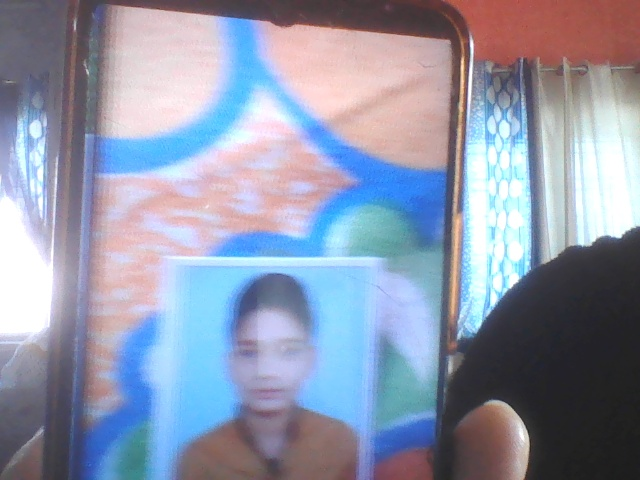fake: (211, 247, 347, 440)
